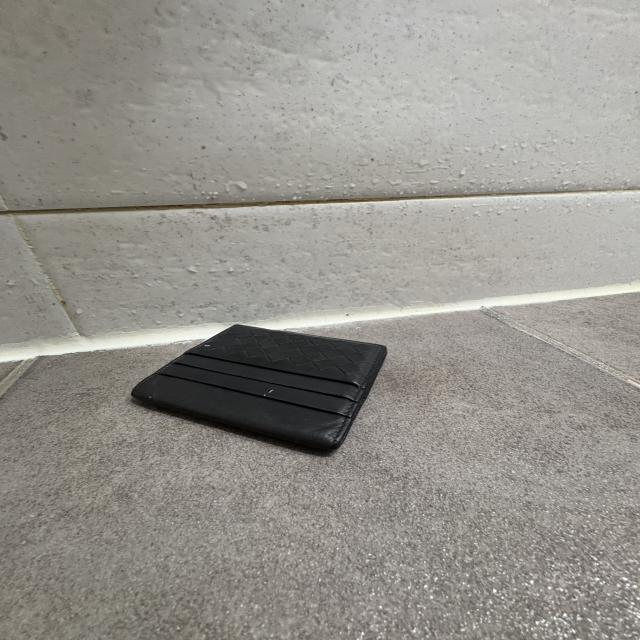wallet: (129, 324, 389, 456)
